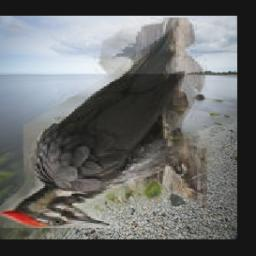Woodpecker: (0, 18, 206, 229)
